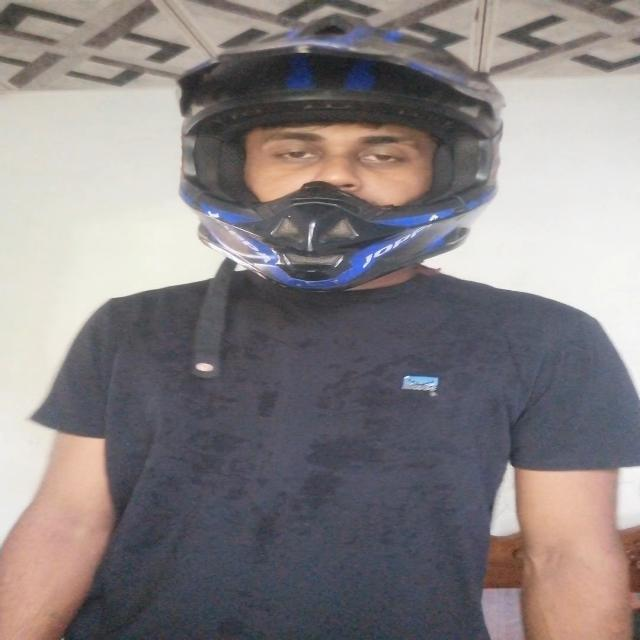Helmet_Wearer: (157, 24, 510, 289)
Person: (28, 12, 631, 640)
